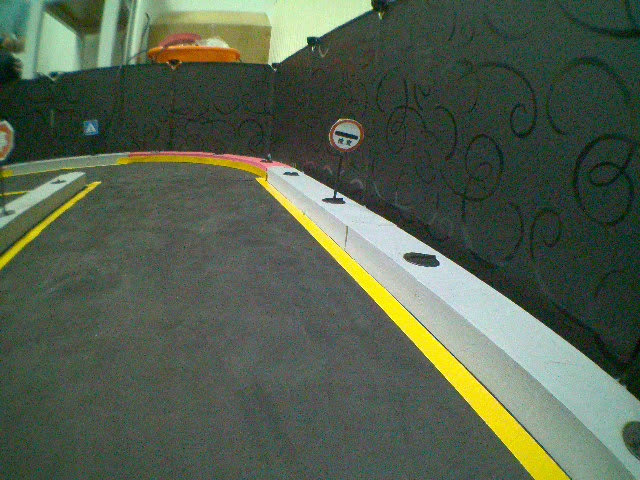Check: (322, 110, 366, 156)
crossing: (77, 120, 110, 141)
